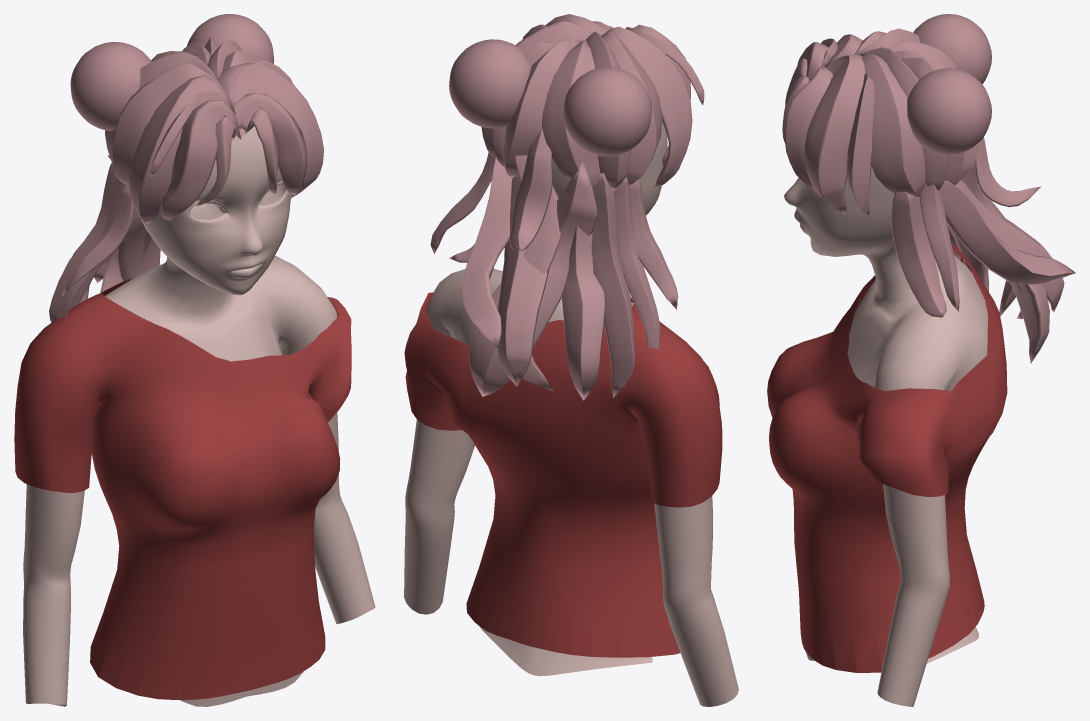
File: FBX_Disloc_1.fbx
3 views of the same model, side by side, from view 1: azimuth 30°, elevation 25°; view 2: azimuth 150°, elevation 25°; view 3: azimuth 270°, elevation 25° (orthographic). The views are drawn at different scales.
Parts seen in each view (by area): view 1: Shirt, Body, Hair; view 2: Hair, Shirt, Body; view 3: Shirt, Hair, Body.
Part boxes in pixels (x1,y1,x2,y2): Shirt: (14, 278, 351, 699); Body: (23, 126, 375, 706); Hair: (49, 14, 323, 322); Hair: (430, 14, 704, 400); Shirt: (404, 292, 722, 657); Body: (404, 121, 738, 706); Shirt: (767, 244, 1007, 672); Hair: (782, 14, 1075, 363); Body: (784, 168, 987, 706).
Size of the model in its own units: 5.43 by 9.71 by 4.42.
